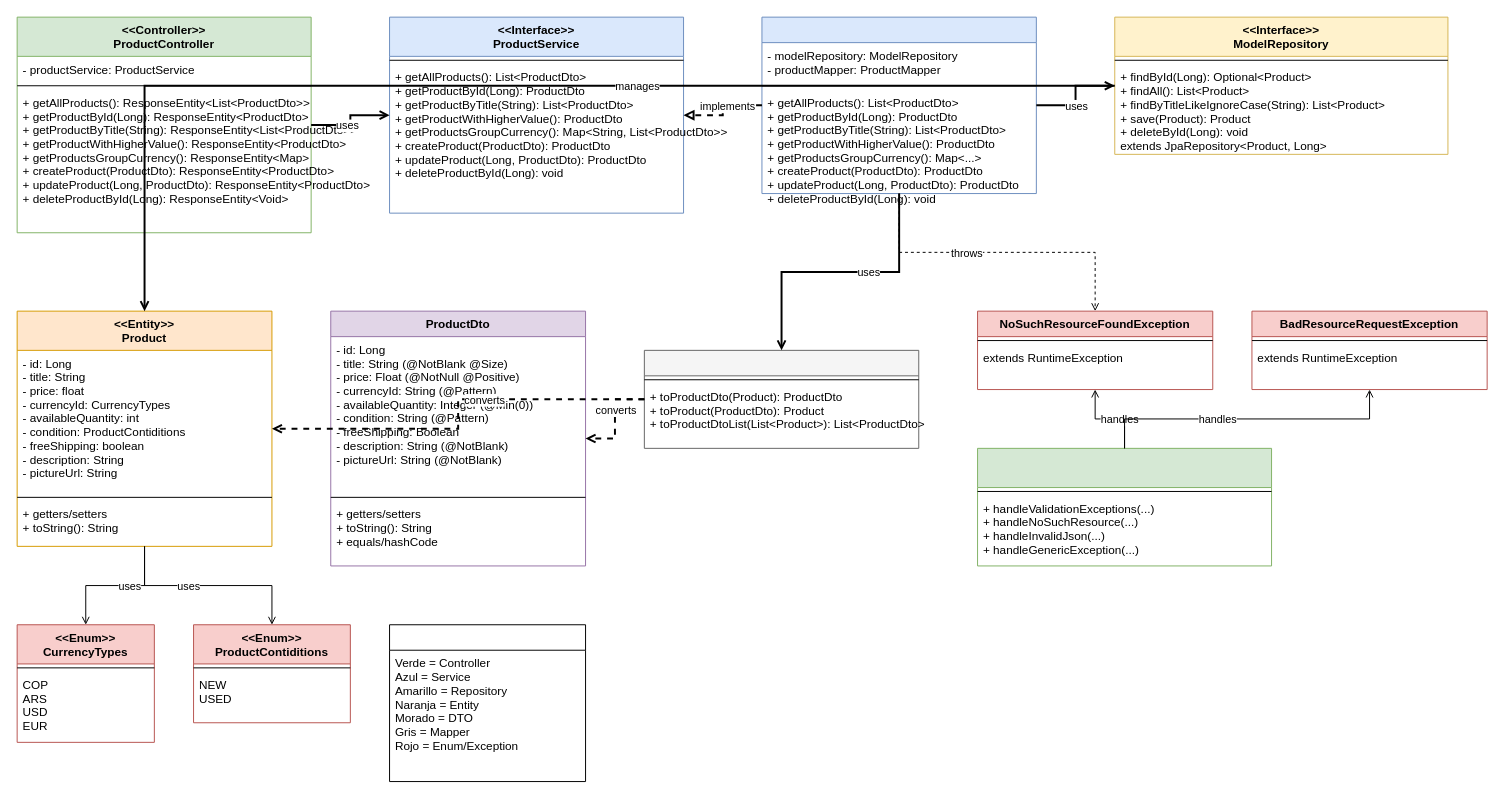
Some shapes in this 1504 by 799 pixel diagram are drawn without their labels. Each missing label, with the box of its shape:
@RestControllerAdvice GlobalExceptionHandler: (977, 447, 1272, 566)
LEYENDA: (389, 624, 586, 782)
ProductMapper: (643, 349, 919, 448)
ProductServiceImpl: (761, 16, 1036, 194)
